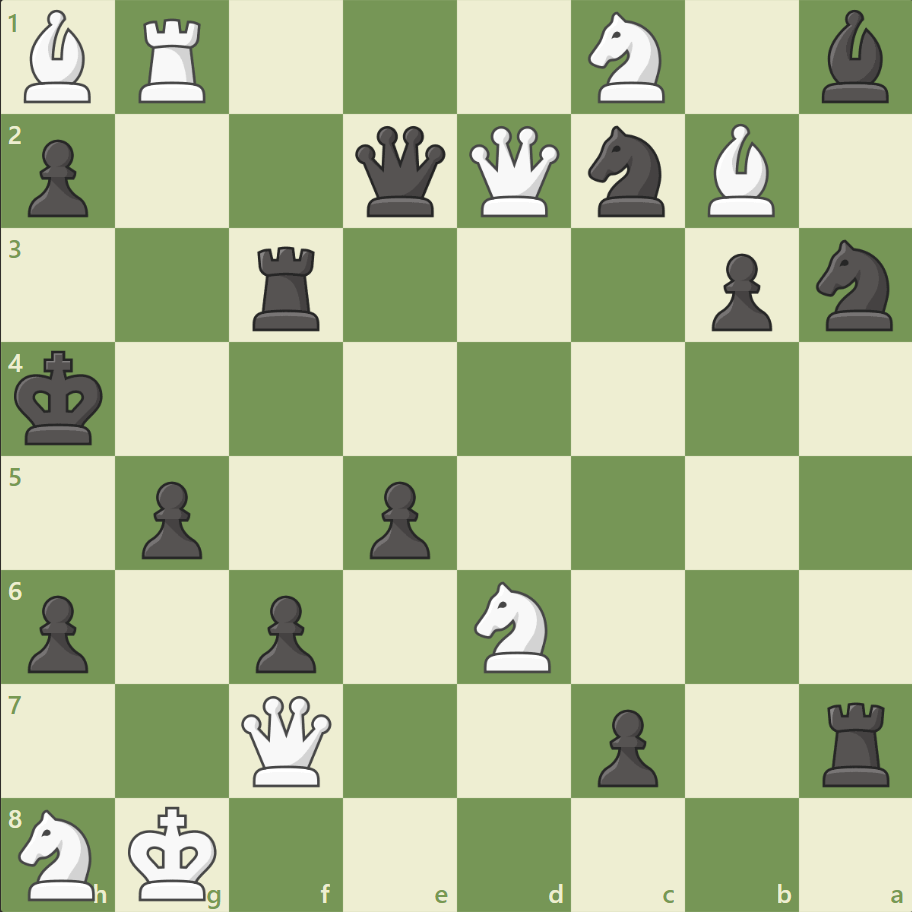B: (17, 6, 101, 109), (698, 120, 782, 222)
K: (124, 798, 224, 906)
N: (579, 7, 676, 110), (11, 802, 108, 904), (465, 575, 562, 677)
Q: (464, 122, 563, 222), (237, 690, 336, 789)
R: (133, 12, 215, 109)
b: (812, 6, 896, 109)
k: (11, 344, 111, 452)
n: (806, 234, 903, 337), (579, 121, 676, 223)
p: (247, 586, 322, 677), (20, 586, 95, 677), (133, 473, 208, 564), (701, 246, 776, 337), (20, 132, 95, 223), (588, 700, 662, 791), (361, 473, 435, 564)
q: (351, 122, 450, 222)
r: (814, 693, 897, 790), (246, 239, 329, 336)
